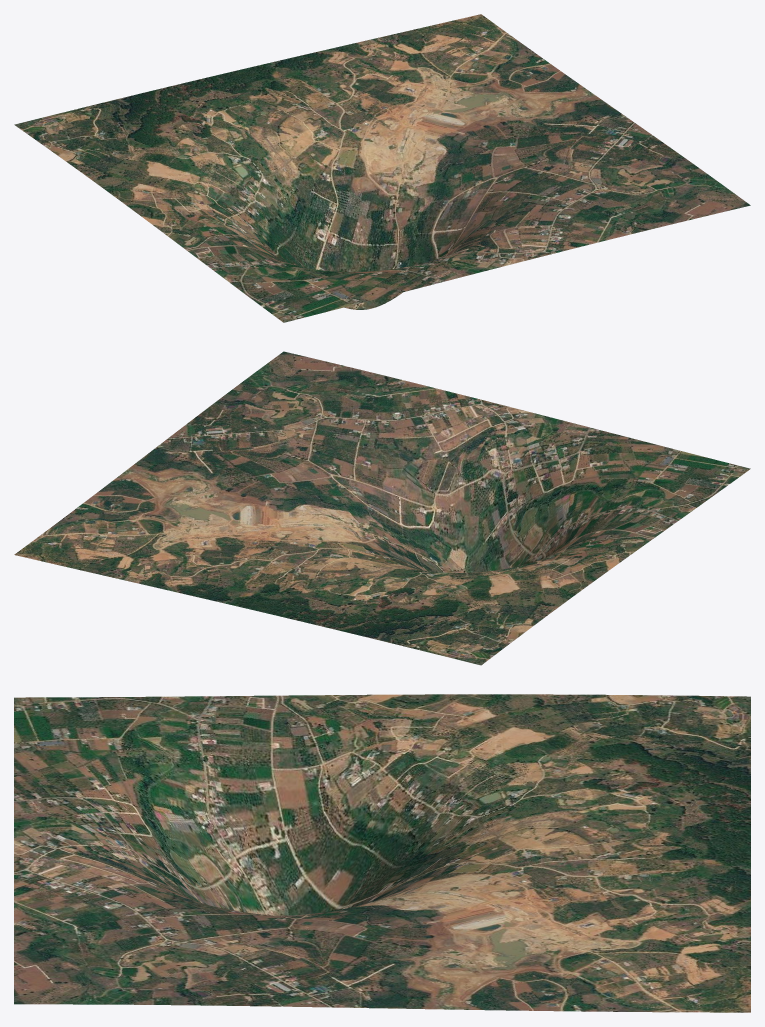
Rendered from terrain_real_T_W04_S05.glb.
The picture shows the model from 3 angles, top to bottom: view 1: azimuth 30°, elevation 25°; view 2: azimuth 150°, elevation 25°; view 3: azimuth 270°, elevation 25°; orthographic projection. The views are drawn at different scales.
Visible parts, largest first — view 1: Terrain_Real_DEM_T_W04_S05; view 2: Terrain_Real_DEM_T_W04_S05; view 3: Terrain_Real_DEM_T_W04_S05.
Part boxes in pixels (x1=…): Terrain_Real_DEM_T_W04_S05: x1=14, y1=14, x2=750, y2=322; Terrain_Real_DEM_T_W04_S05: x1=14, y1=351, x2=750, y2=665; Terrain_Real_DEM_T_W04_S05: x1=14, y1=694, x2=750, y2=1012.
Bounding box in the file's own units: 2000 × 424 × 2000.
1 material, 1 textured.
